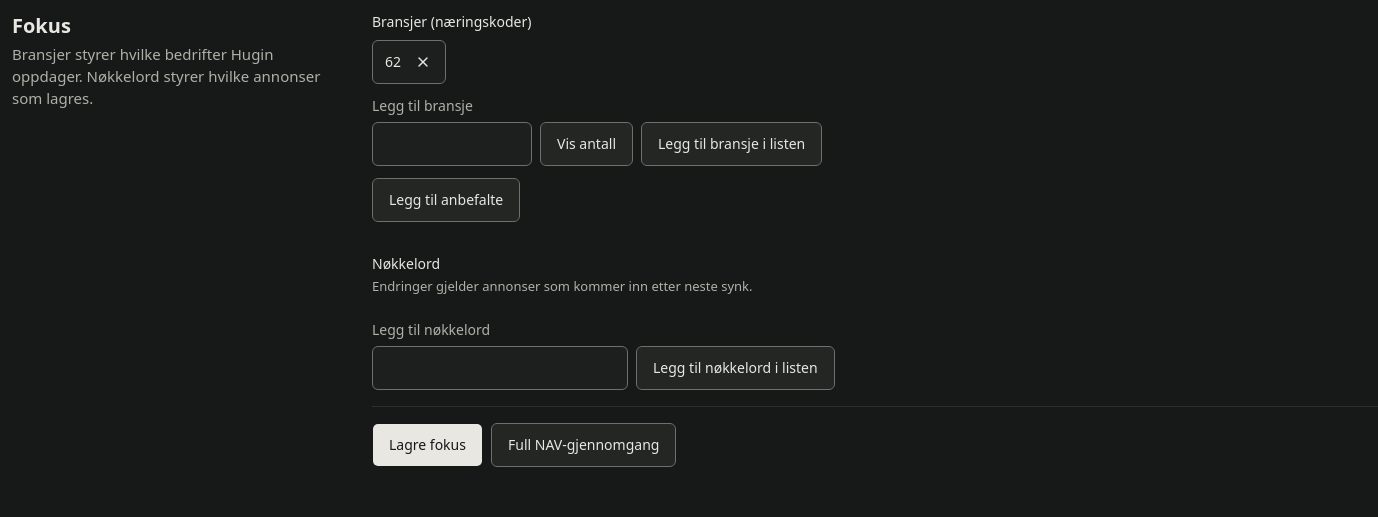
FocusSection › a failed recommended fetch says so instead of leaving the button looking dead
Click the button "Legg til anbefalte". click: (446, 200)
box: 372,178 -> 520,222
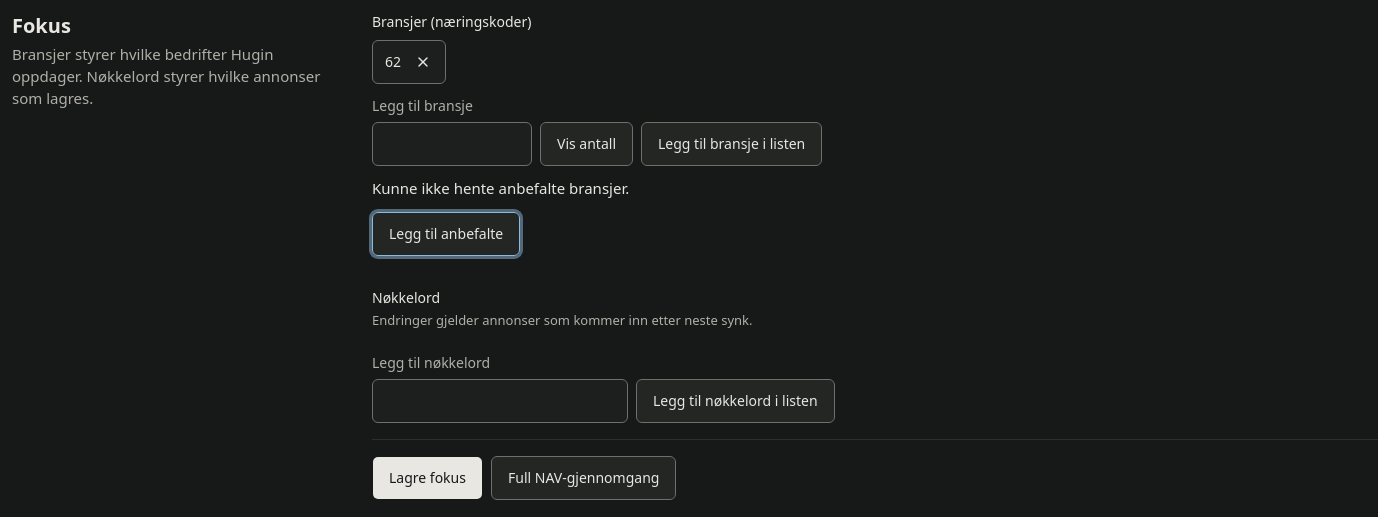
Expected: the text "Kunne ikke hente anbefalte bransjer." is shown, 372,178 -> 629,198
